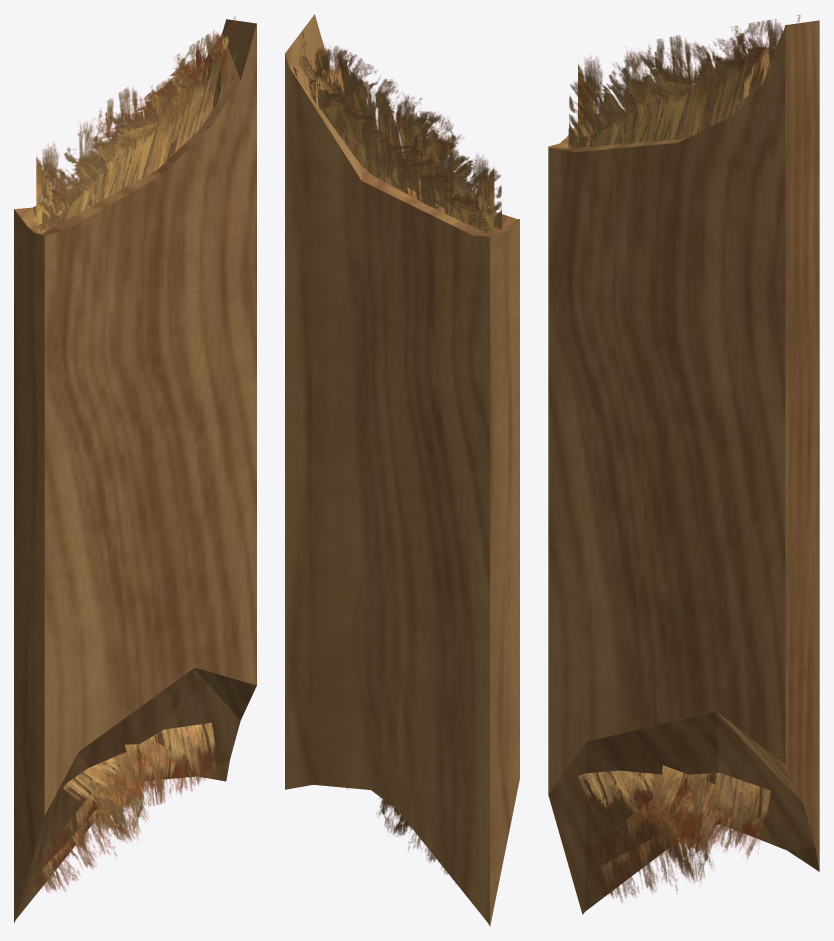
Rendered from WoodSplint.glb.
3 renders of one model, left to right at view 1: azimuth 30°, elevation 25°; view 2: azimuth 150°, elevation 25°; view 3: azimuth 330°, elevation 25°, orthographic. The views are drawn at different scales.
Visible parts, largest first — view 1: WoodSplint; view 2: WoodSplint; view 3: WoodSplint.
Boxes of the visible parts, box(x1,y1,x2,y2) form: WoodSplint: box(14, 16, 256, 922); WoodSplint: box(285, 14, 519, 926); WoodSplint: box(548, 15, 819, 914).
Size of the model in its own units: 0.2296 by 0.8923 by 0.0752.
2 materials, 2 textured.
